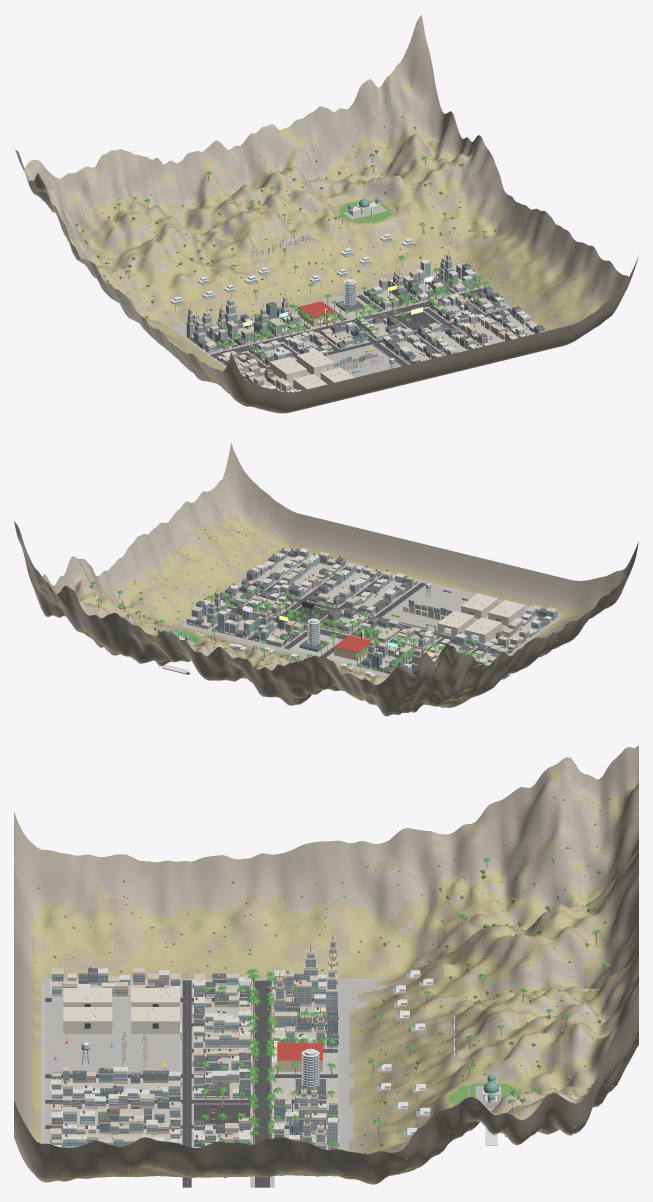
The model's file is hollywood.glb.
The picture shows the model from 3 angles, top to bottom: view 1: azimuth 30°, elevation 25°; view 2: azimuth 150°, elevation 25°; view 3: azimuth 270°, elevation 25°; orthographic projection. The views are drawn at different scales.
Parts seen in each view (by area): view 1: map; view 2: map; view 3: map.
Part boxes in pixels (left/top/right/bottom): map: left=14, top=15, right=638, bottom=413; map: left=14, top=442, right=638, bottom=716; map: left=14, top=745, right=638, bottom=1187.
Size of the model in its own units: 900 by 345 by 830.
